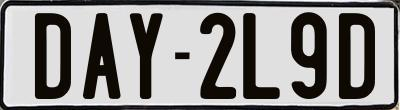2: (197, 10, 236, 102)
9: (289, 10, 325, 101)
A: (80, 13, 119, 100)
D: (32, 10, 73, 102), (337, 10, 373, 98)
L: (242, 11, 284, 103)
Y: (130, 11, 166, 102)
